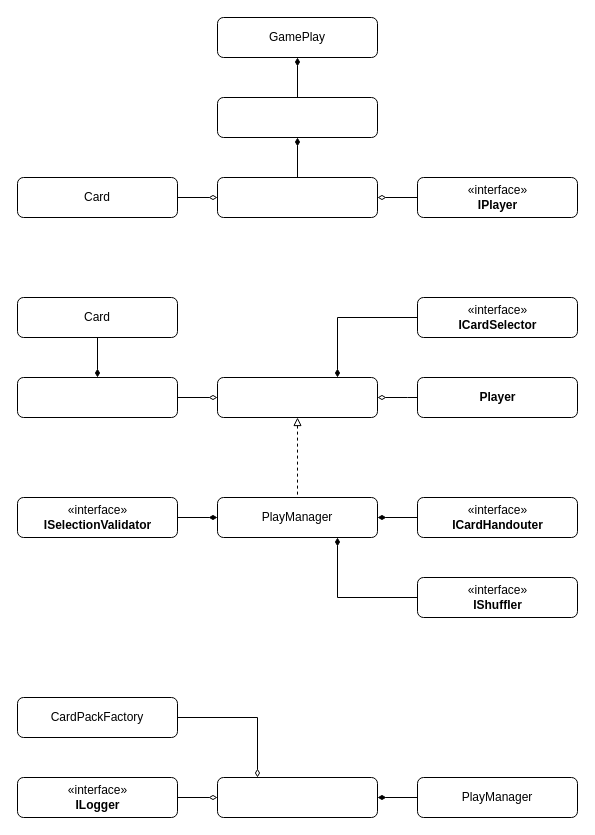
This 595x835 diagram has some shape labels left out. The shapes that lost their labels are listed below. From the top down, each one's centre as x and y in pixels, then its label:
(x=297, y=117): Round
(x=297, y=197): FaceUpCards
(x=97, y=397): Pack
(x=297, y=397): «interface» IPlayManager
(x=297, y=797): TheKingAndTheBeggar
